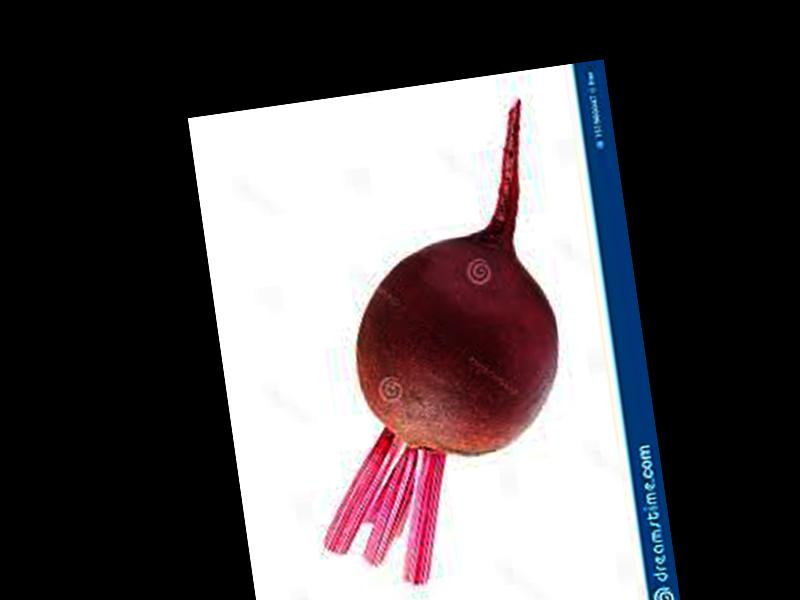Beet: (269, 103, 585, 594)
